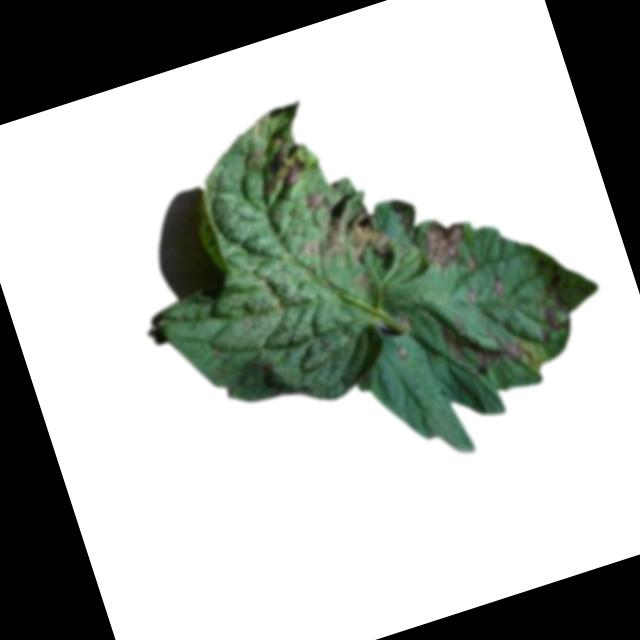Early_blight: (288, 187, 396, 281), (435, 296, 536, 389), (249, 121, 309, 194), (412, 210, 473, 273), (531, 301, 565, 343), (487, 272, 510, 300), (303, 188, 323, 211)
